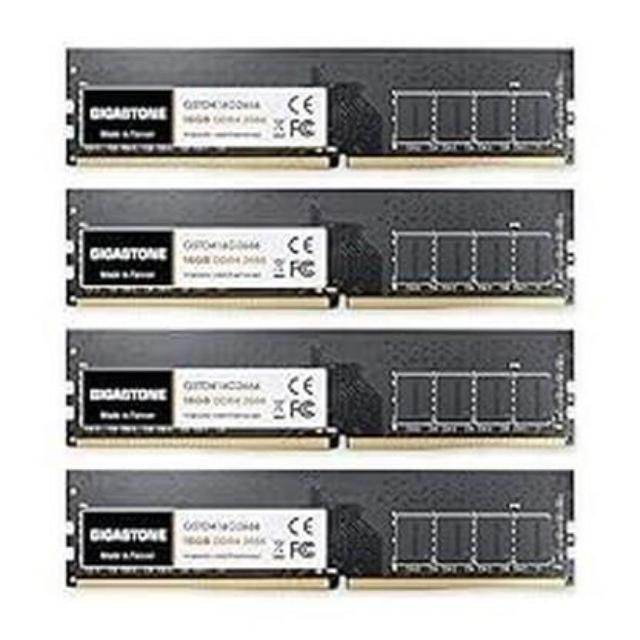RAM: (54, 37, 577, 177), (61, 184, 584, 318), (59, 465, 586, 597), (61, 322, 579, 456)
